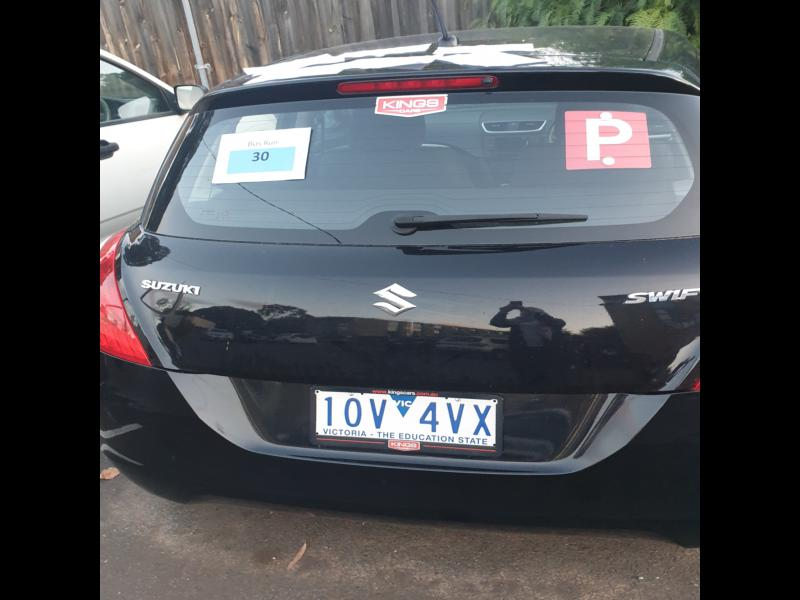BusRun: (229, 148, 296, 173)
PlateNo: (312, 389, 500, 447)
